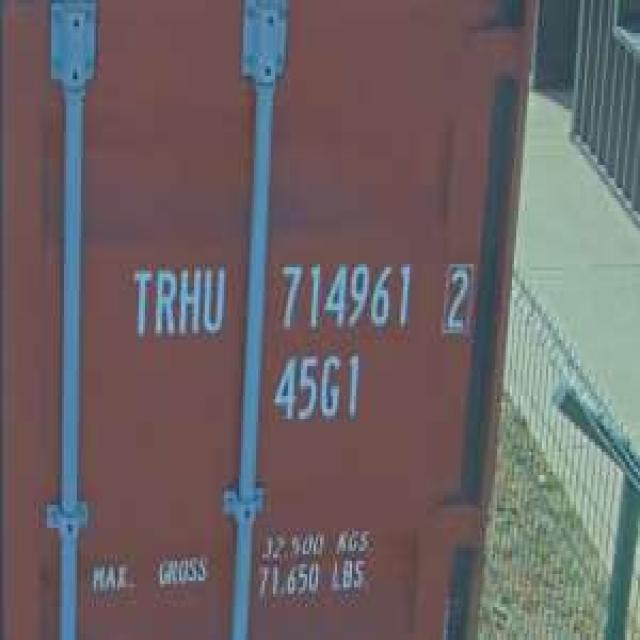dv: (437, 254, 476, 340)
owner: (124, 254, 228, 346)
serial: (273, 250, 414, 336)
size: (266, 343, 364, 432)
